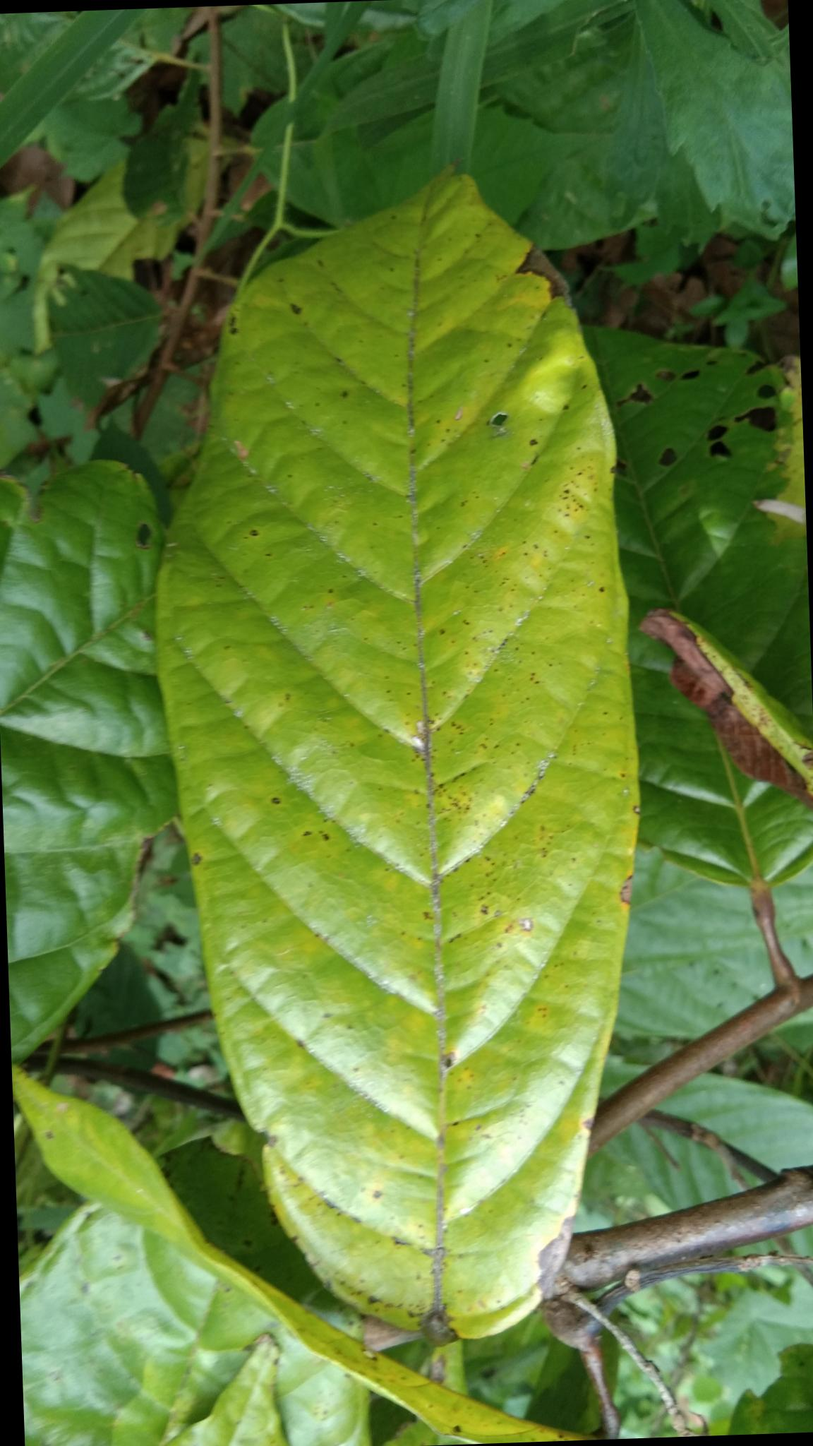Fosforo: (149, 147, 645, 1344)
